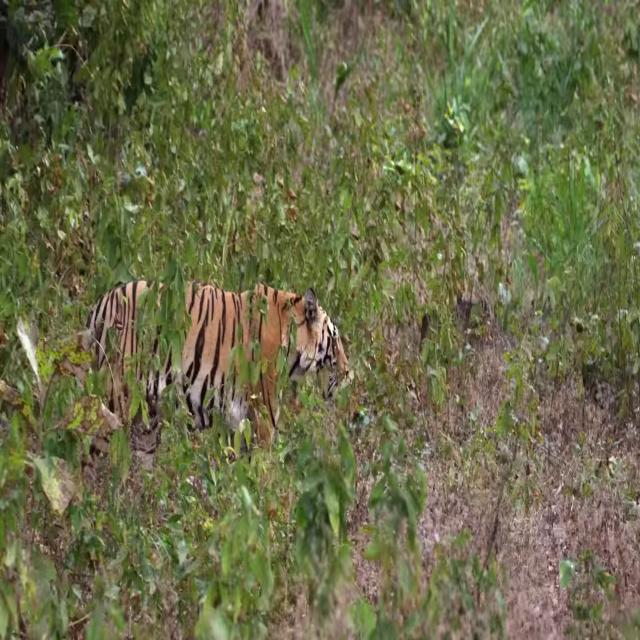tiger: (79, 273, 349, 474)
